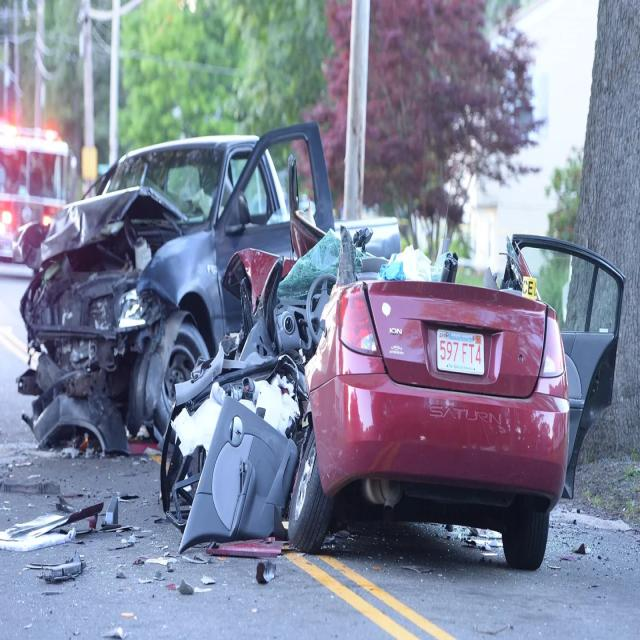car-serious-accident: (28, 85, 626, 588)
